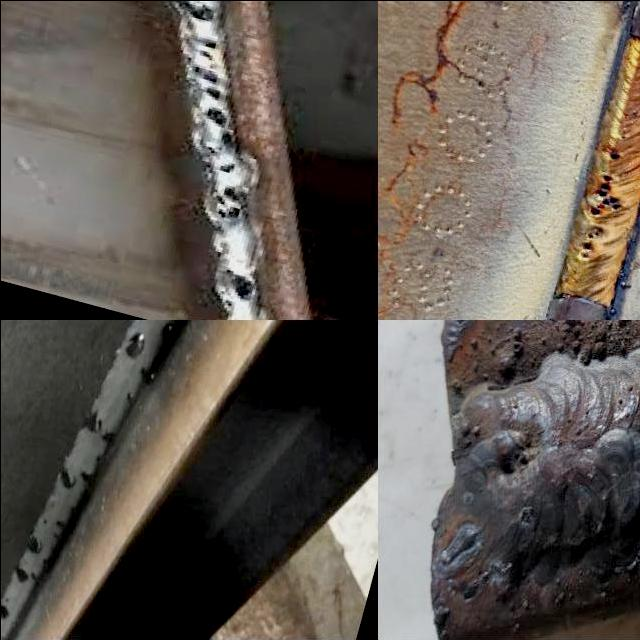defect: (586, 168, 631, 218), (194, 35, 226, 102), (202, 180, 249, 224), (202, 102, 236, 150), (165, 0, 220, 25), (217, 265, 253, 300), (498, 447, 533, 479), (575, 224, 604, 261), (78, 403, 106, 436), (123, 329, 147, 364), (514, 505, 535, 534), (12, 563, 37, 586), (56, 468, 75, 492), (213, 158, 238, 176), (137, 367, 156, 387), (26, 533, 40, 559), (159, 321, 176, 339), (0, 593, 10, 623), (78, 467, 95, 484), (98, 429, 114, 446), (603, 149, 621, 164), (51, 519, 62, 542), (122, 390, 133, 406), (92, 455, 101, 464), (40, 516, 49, 525)
